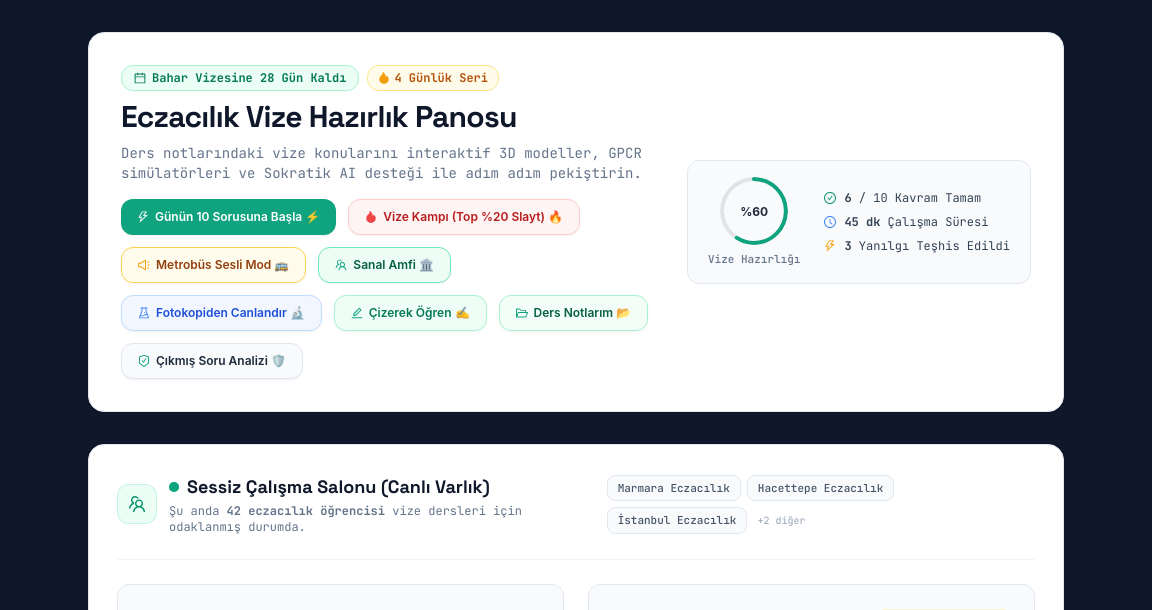
Test: MinimalCourseDashboard › opens DailyChallengeModal when Günün 10 Sorusuna Başla button is clicked
Click the button "Günün 10 Sorusuna Başla ⚡": click(229, 217) [121, 199, 336, 235]
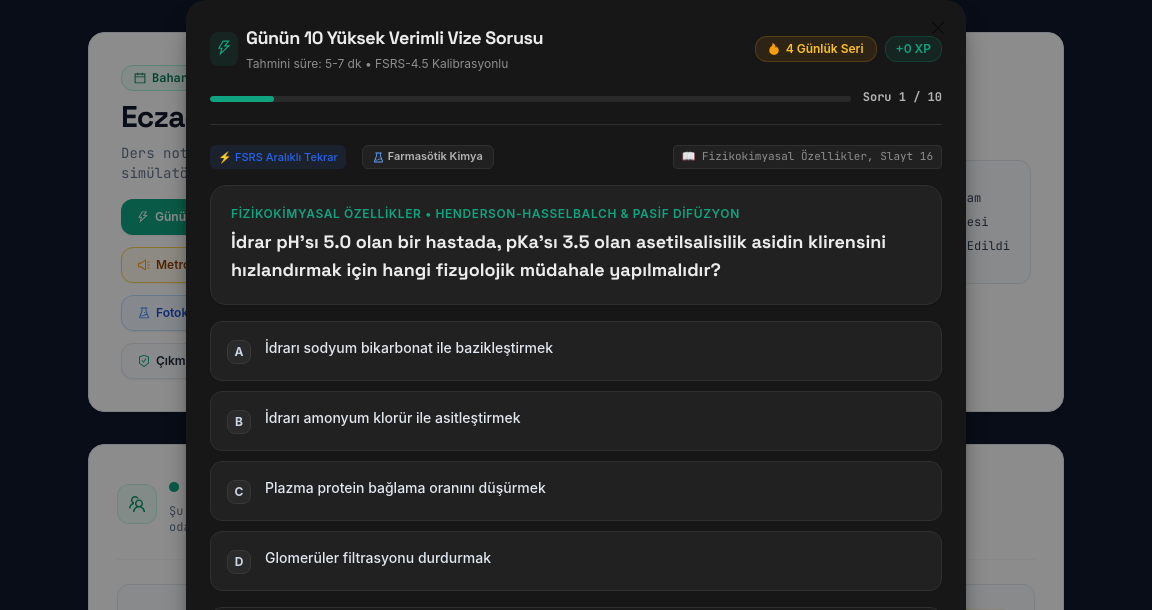
Now the heading "Günün 10 Yüksek Verimli Vize Sorusu" is shown, box [246, 24, 543, 52]
Now the text "Soru 1 / 10" is shown, box [863, 89, 942, 105]
